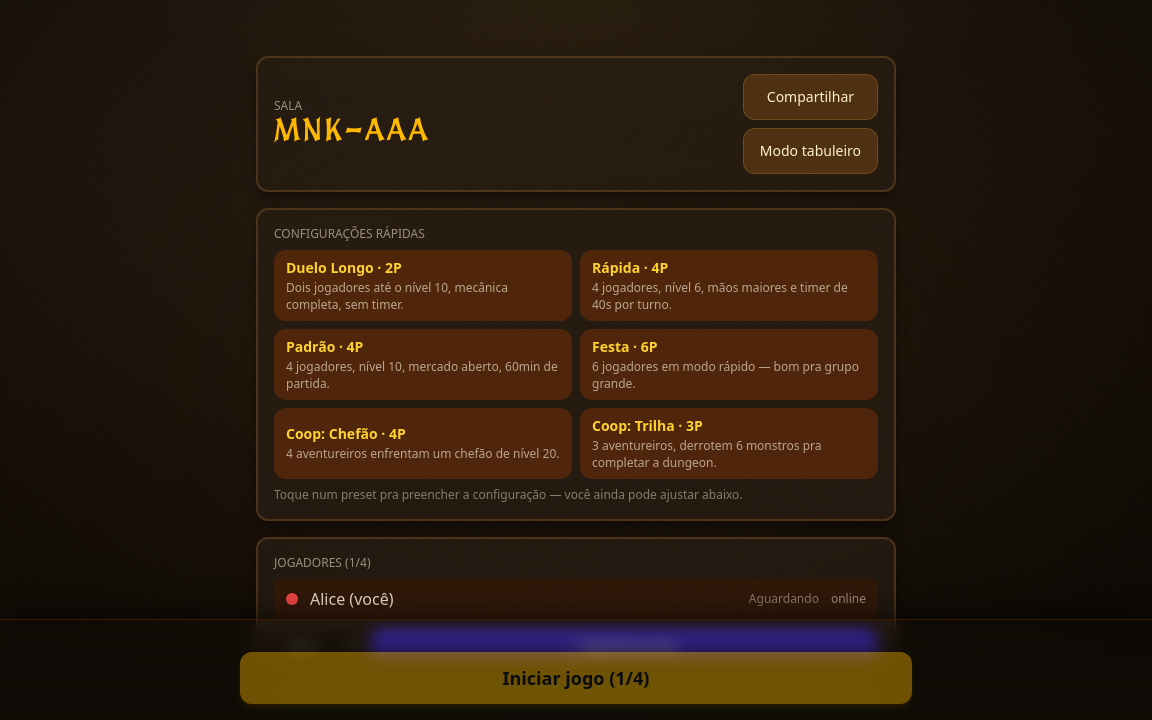
it: Lobby › share button copies room code to clipboard when navigator.share is unavailable
Click the button "Compartilhar": (810, 97) [743,74,878,120]
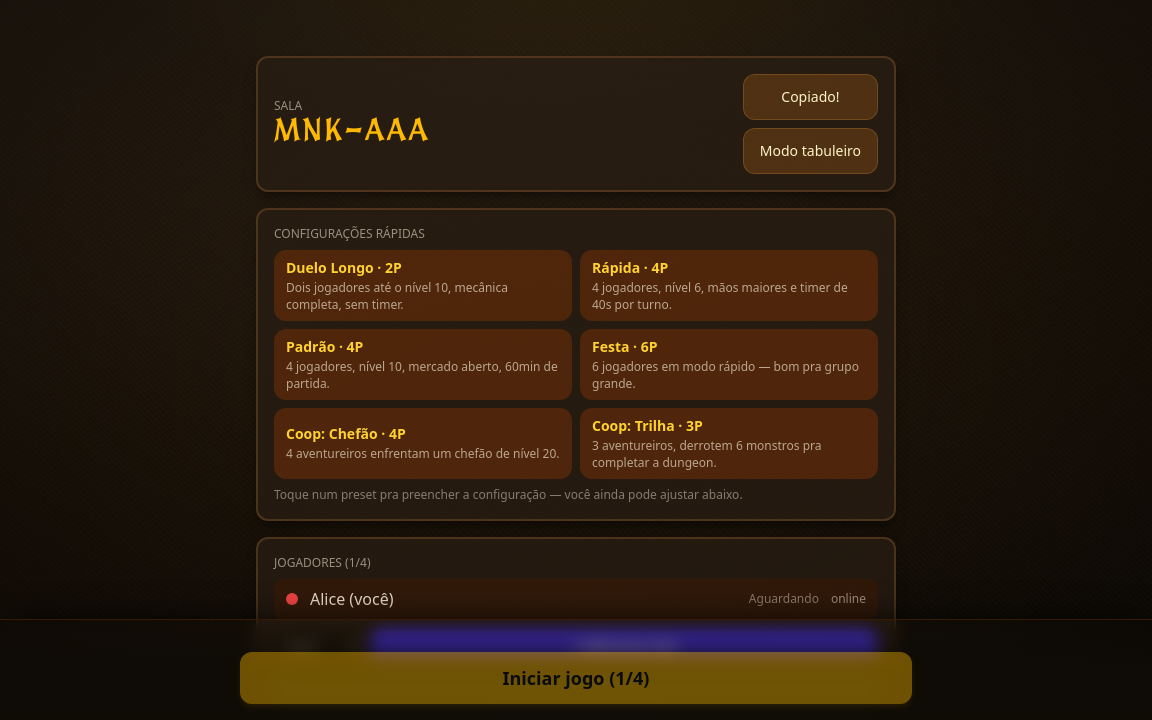
expect the button "Copiado!" is shown: met, box [743,74,878,120]
